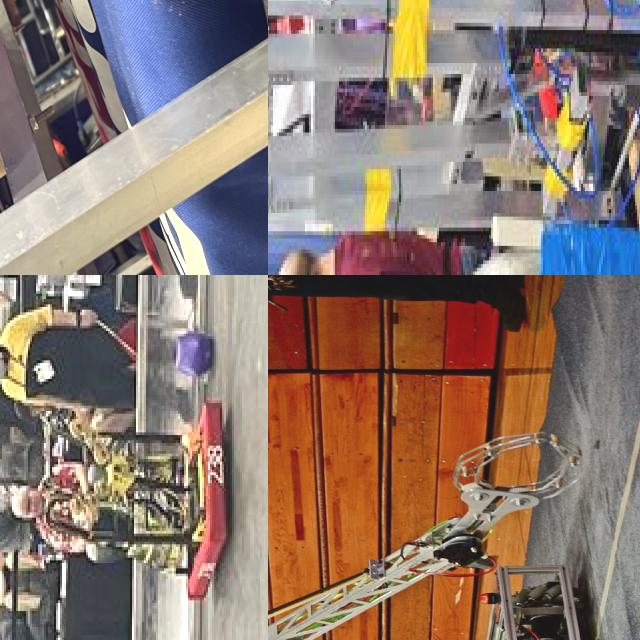FRC-Robots: (268, 0, 640, 275), (268, 402, 640, 640), (36, 386, 250, 622)
